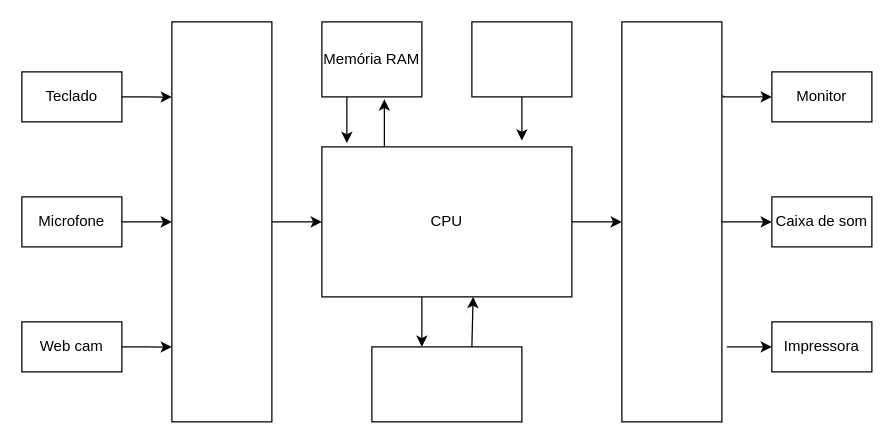
Some shapes in this 894 by 444 pixel diagram are drawn without their labels. The centre of each missing label's shape, as x and y in pixels:
Disco: the point at 446,384
Entradas: the point at 221,221
Memória ROM: the point at 521,59
Saídas: the point at 671,221
